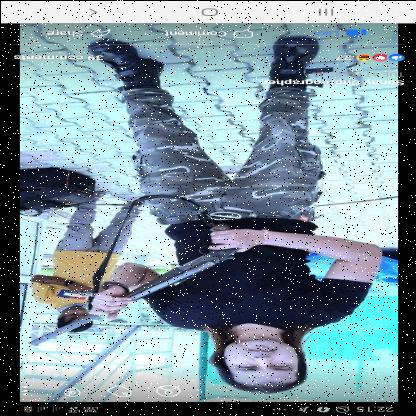rifle: (25, 221, 248, 346)
